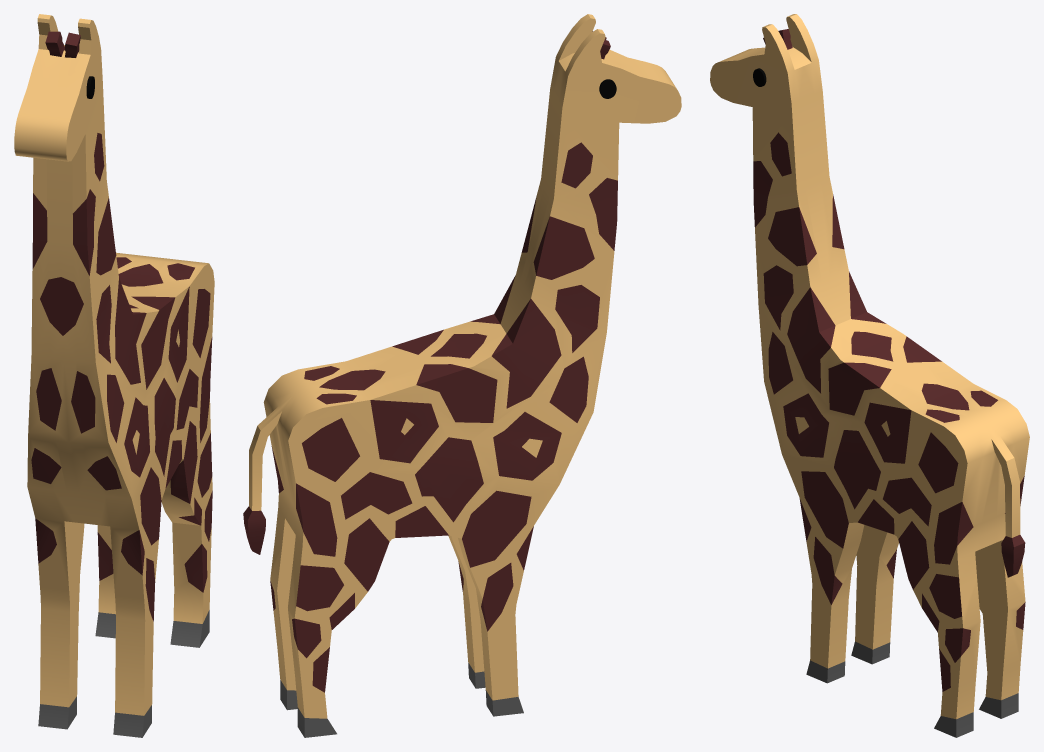
File: giraffe.fbx
3 views of the same model, side by side, from view 1: azimuth 30°, elevation 25°; view 2: azimuth 150°, elevation 25°; view 3: azimuth 270°, elevation 25° (orthographic). The views are drawn at different scales.
Visible parts, largest first — view 1: Plane.131; view 2: Plane.131; view 3: Plane.131.
Boxes of the visible parts, x1,y1,x2,y2 form: Plane.131: (14,14,214,737); Plane.131: (243,14,681,737); Plane.131: (710,14,1029,737).
Bounding box in the file's own units: 108 × 231 × 108.
1 material, 1 textured.
